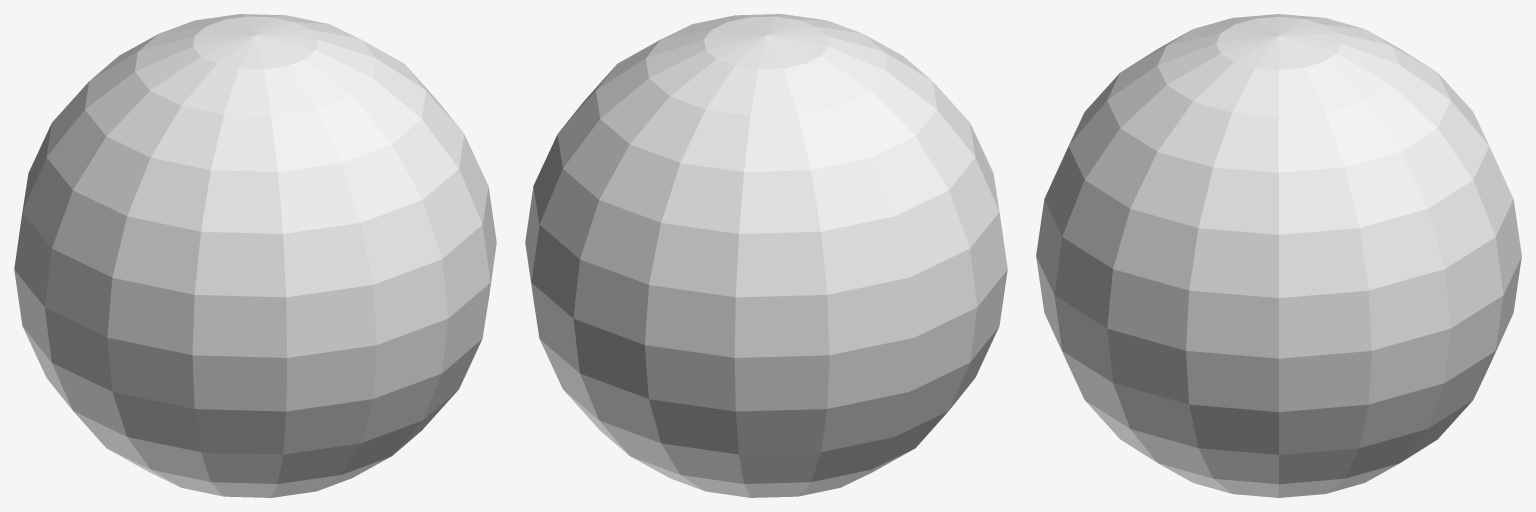
Rendered from orb_pure.obj.
The picture shows the model from 3 angles, left to right: view 1: azimuth 30°, elevation 25°; view 2: azimuth 150°, elevation 25°; view 3: azimuth 270°, elevation 25°; orthographic projection.
Visible parts, largest first — view 1: Sphere_Sphere.002; view 2: Sphere_Sphere.002; view 3: Sphere_Sphere.002.
Part boxes in pixels (<box>): Sphere_Sphere.002: <box>14,14,496,497</box>; Sphere_Sphere.002: <box>525,14,1007,497</box>; Sphere_Sphere.002: <box>1036,14,1521,497</box>.
Size of the model in its own units: 1 by 1 by 1.
